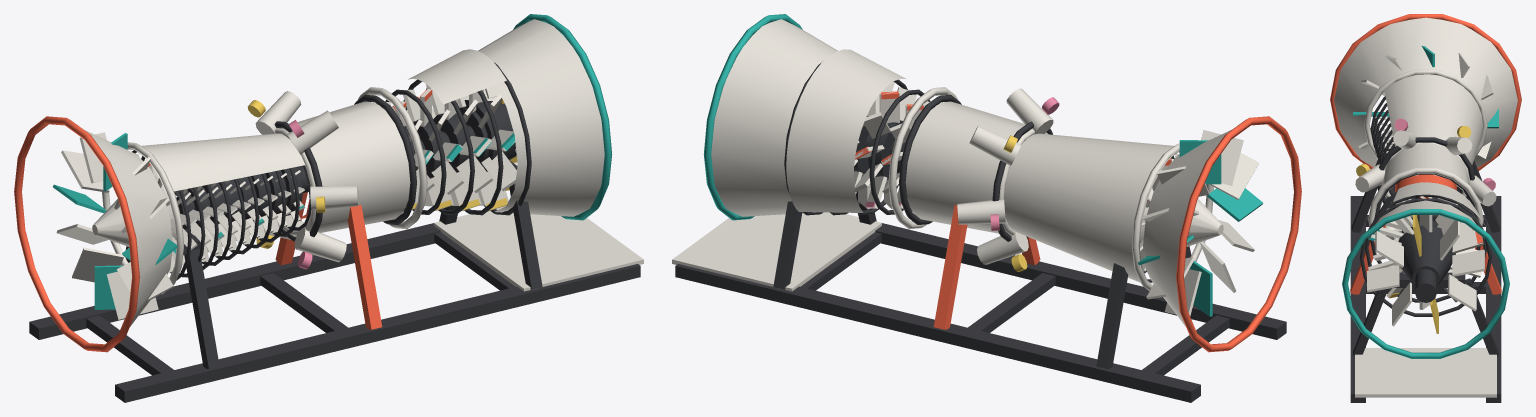
The model's file is turbine.glb.
3 renders of one model, left to right at view 1: azimuth 30°, elevation 25°; view 2: azimuth 150°, elevation 25°; view 3: azimuth 270°, elevation 25°, orthographic. The views are drawn at different scales.
Parts seen in each view (by area): view 1: diffuser_flare, skid_rail_far, skid_deck_plate, combustor_barrel, compressor_casing, skid_rail_near, intake_bellmouth, intake_lip_ring, turbine_casing, diffuser_lip_ring, mount_leg_1_far, mount_leg_0_far (+29 smaller); view 2: compressor_casing, diffuser_flare, turbine_casing, skid_rail_near, combustor_barrel, skid_deck_plate, skid_rail_far, intake_bellmouth, intake_lip_ring, diffuser_lip_ring, mount_leg_1_near, skid_cross_-0.2 (+22 smaller); view 3: intake_bellmouth, skid_deck_plate, compressor_casing, diffuser_lip_ring, intake_lip_ring, combustor_barrel, diffuser_plug, skid_rail_far, skid_rail_near, compressor_case_ring_fwd, turbine_nozzle_4, turbine_case_ring_fwd (+31 smaller).
Boxes of the visible parts, box(x1,y1,x2,y2) form: diffuser_flare: box(478, 19, 604, 216); skid_rail_far: box(115, 264, 640, 402); skid_deck_plate: box(434, 206, 643, 291); combustor_barrel: box(288, 101, 410, 232); compressor_casing: box(129, 133, 304, 192); skid_rail_near: box(29, 223, 440, 339); intake_bellmouth: box(84, 130, 172, 326); intake_lip_ring: box(14, 116, 139, 352); turbine_casing: box(408, 49, 506, 104); diffuser_lip_ring: box(513, 14, 612, 220); mount_leg_1_far: box(347, 205, 382, 329); mount_leg_0_far: box(184, 248, 219, 368); compressor_casing: box(1004, 133, 1179, 286); diffuser_flare: box(711, 19, 837, 216); turbine_casing: box(786, 49, 906, 212); skid_rail_near: box(675, 264, 1200, 402); combustor_barrel: box(905, 101, 1027, 233); skid_deck_plate: box(672, 212, 881, 291); skid_rail_far: box(875, 223, 1286, 339); intake_bellmouth: box(1143, 130, 1231, 326); intake_lip_ring: box(1176, 116, 1301, 352); diffuser_lip_ring: box(703, 14, 802, 220); mount_leg_1_near: box(933, 205, 967, 329); skid_cross_-0.2: box(956, 273, 1055, 347); intake_bellmouth: box(1334, 17, 1517, 167); skid_deck_plate: box(1355, 348, 1496, 397); compressor_casing: box(1384, 74, 1482, 164); diffuser_lip_ring: box(1342, 209, 1509, 358); intake_lip_ring: box(1330, 14, 1521, 170); combustor_barrel: box(1379, 142, 1470, 209); diffuser_plug: box(1398, 225, 1455, 285); skid_rail_far: box(1350, 196, 1365, 402); skid_rail_near: box(1486, 196, 1501, 402); compressor_case_ring_fwd: box(1364, 69, 1487, 159); turbine_nozzle_4: box(1359, 198, 1492, 316); turbine_case_ring_fwd: box(1368, 168, 1483, 248).
Bounding box in the file's own units: 4.38 × 1.93 × 1.76.
